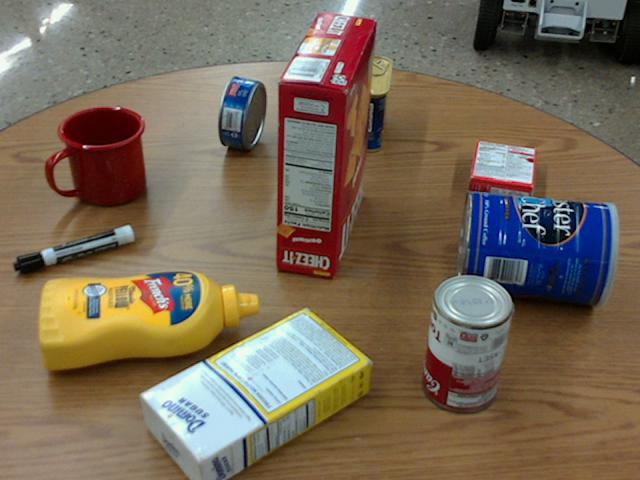cracker_box: (277, 11, 376, 275)
gelatin_box: (467, 139, 535, 203)
large_marker: (14, 224, 133, 273)
master_chef_can: (458, 188, 620, 304)
mug: (49, 107, 145, 207)
mustard_bottle: (39, 268, 258, 370)
potted_meat_can: (342, 54, 391, 151)
sugar_box: (137, 307, 370, 479)
tomato_soup_can: (424, 271, 514, 410)
tuna_fish_can: (217, 75, 266, 149)
